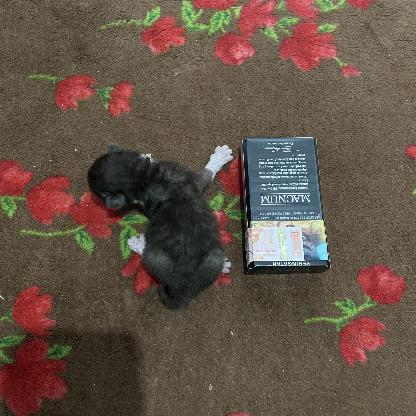objects: (242, 138, 331, 274)
